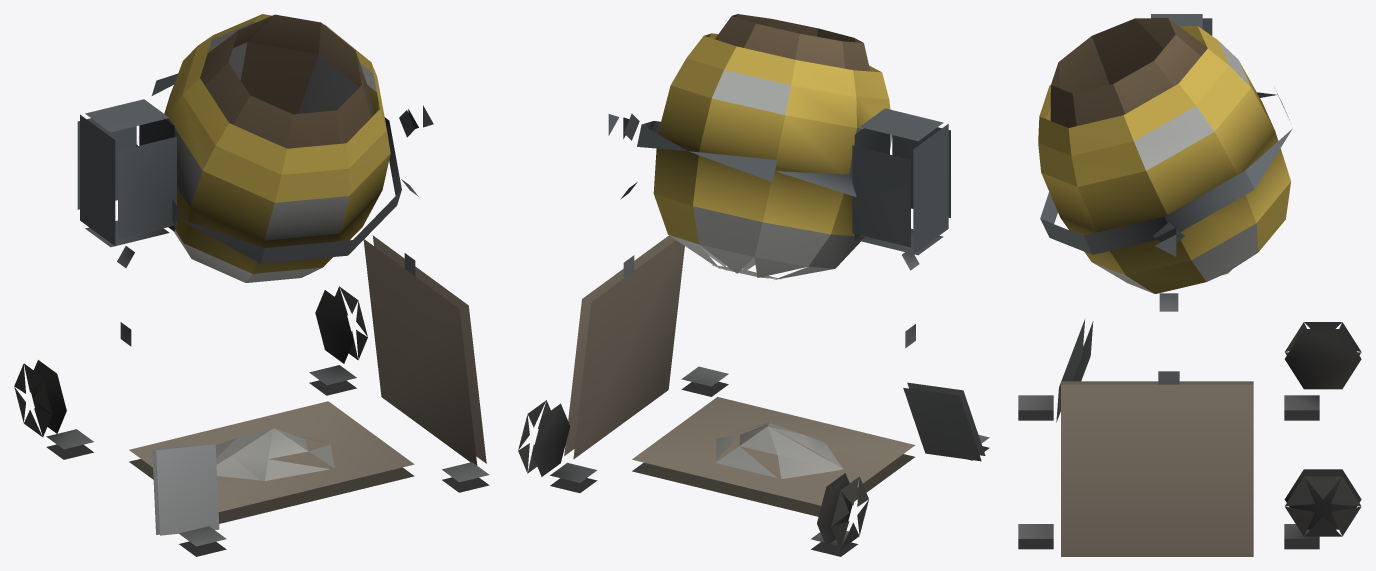
File: mixer.lod.glb
3 renders of one model, left to right at view 1: azimuth 30°, elevation 25°; view 2: azimuth 150°, elevation 25°; view 3: azimuth 270°, elevation 25°, orthographic.
Parts seen in each view (by area): view 1: mixer; view 2: mixer; view 3: mixer.
Part boxes in pixels (x1,y1,x2,y2): mixer: [14, 14, 489, 556]; mixer: [518, 14, 989, 556]; mixer: [1018, 14, 1361, 556].
Size of the model in its own units: 0.9959 by 1.28 by 0.891.
